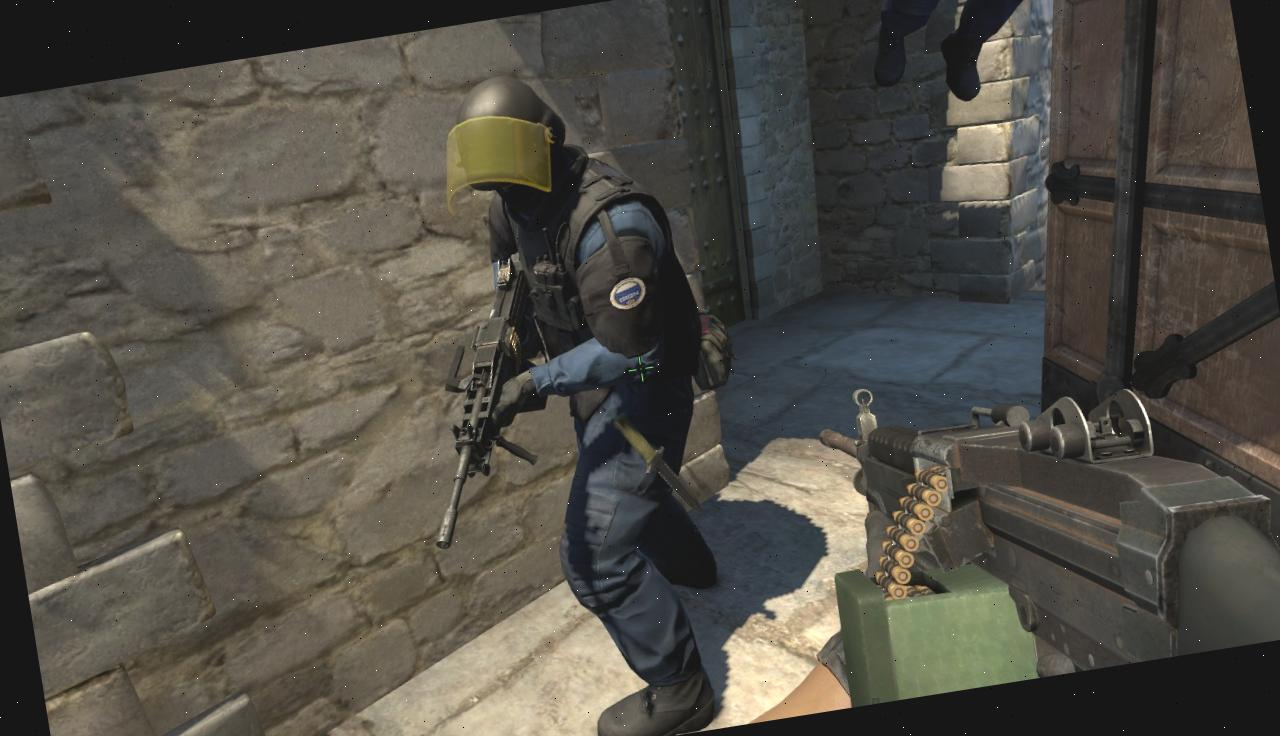ct: (446, 53, 752, 736)
cthead: (430, 74, 570, 207)
rifle: (803, 317, 1280, 707)
